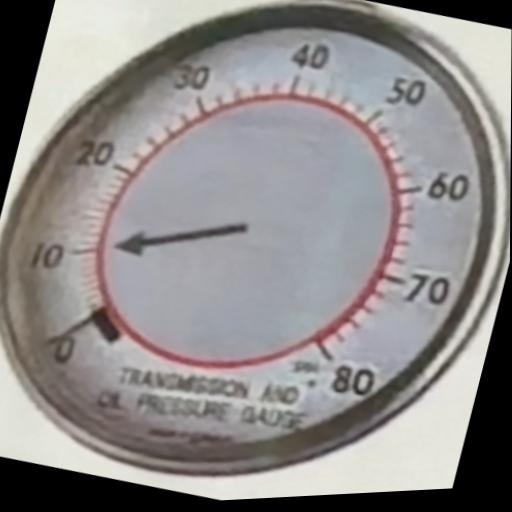needle: (110, 208, 266, 269)
